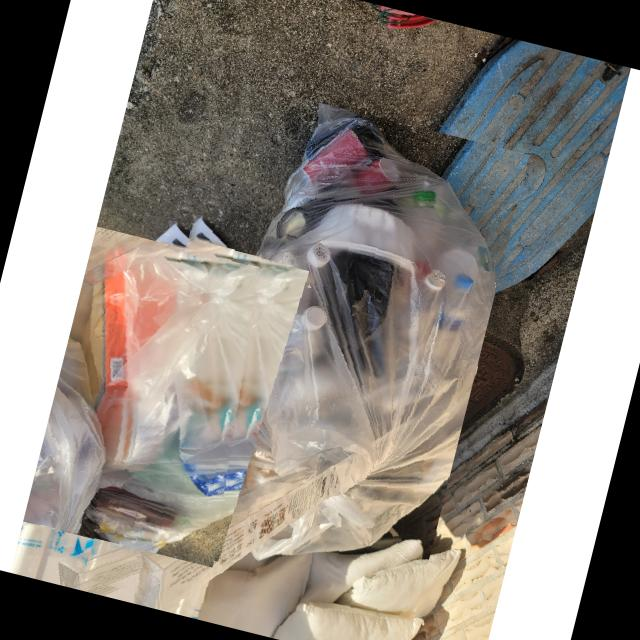other_trashbag: (86, 101, 490, 605), (70, 256, 264, 552)
